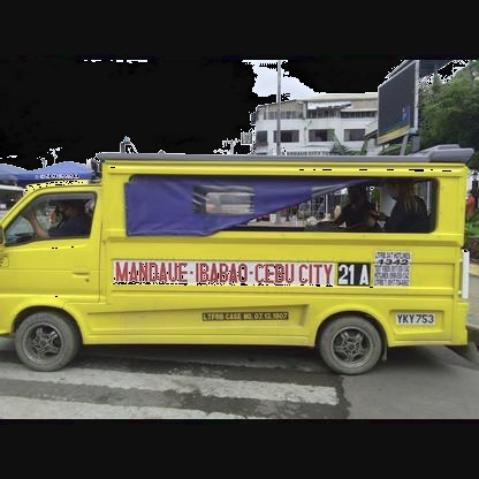jeepney: (1, 141, 479, 379)
